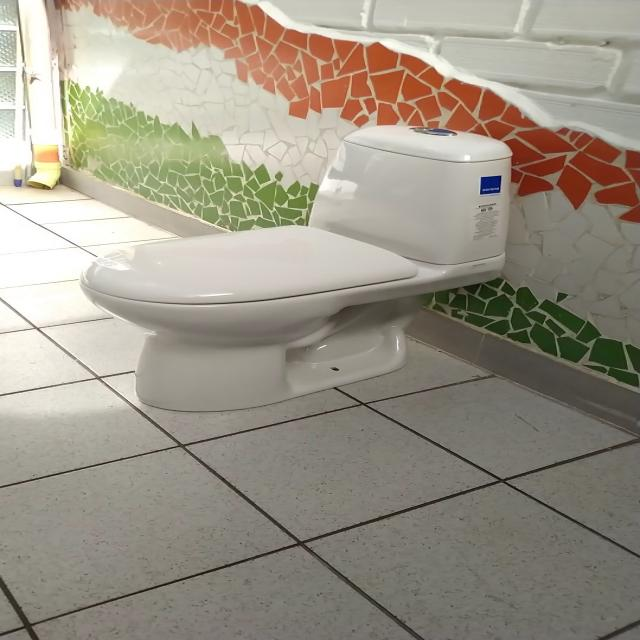toilet: (78, 124, 513, 412)
